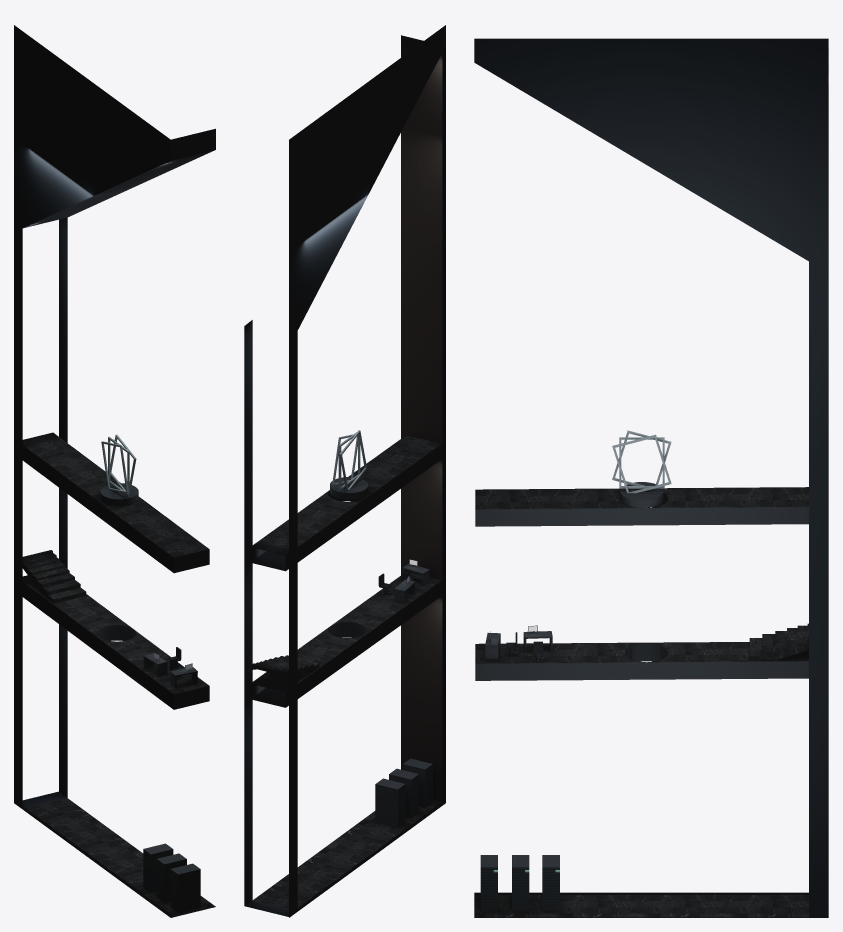
The model's file is cgi-supported-front-v03.glb.
The picture shows the model from 3 angles, left to right: view 1: azimuth 30°, elevation 25°; view 2: azimuth 150°, elevation 25°; view 3: azimuth 270°, elevation 25°; orthographic projection. The views are drawn at different scales.
Visible parts, largest first — view 1: SUPPORTED_CGI_STATOR, SUPPORTED_CGI_CASSETTE; view 2: SUPPORTED_CGI_STATOR, SUPPORTED_CGI_CASSETTE; view 3: SUPPORTED_CGI_STATOR, SUPPORTED_CGI_CASSETTE.
Part boxes in pixels (left/top/right/bottom): SUPPORTED_CGI_STATOR: left=14, top=25, right=215, bottom=917; SUPPORTED_CGI_CASSETTE: left=23, top=434, right=215, bottom=917; SUPPORTED_CGI_STATOR: left=244, top=25, right=445, bottom=917; SUPPORTED_CGI_CASSETTE: left=253, top=430, right=445, bottom=910; SUPPORTED_CGI_STATOR: left=474, top=38, right=828, bottom=917; SUPPORTED_CGI_CASSETTE: left=475, top=430, right=808, bottom=917.
Size of the model in its own units: 0.4193 by 6.93 by 2.53.
Materials: 1 (1 with a texture image).
